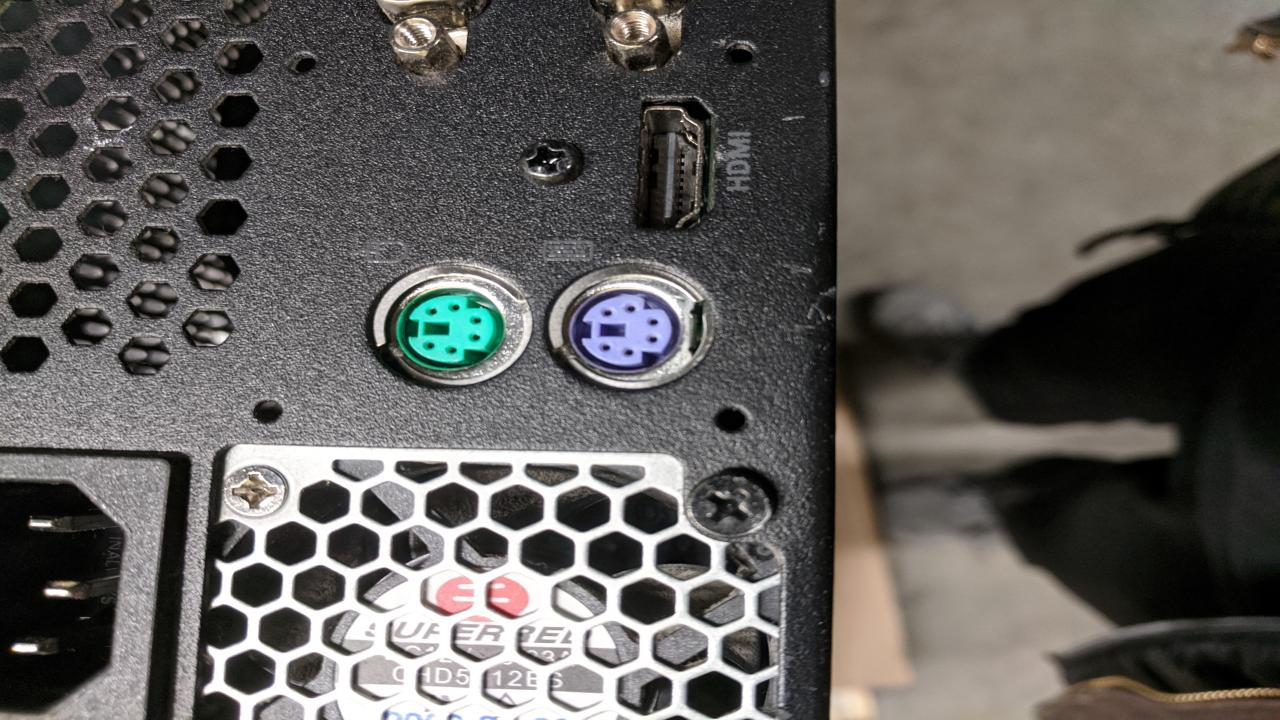CRS: (688, 468, 780, 545), (220, 465, 292, 516), (518, 141, 588, 190)
